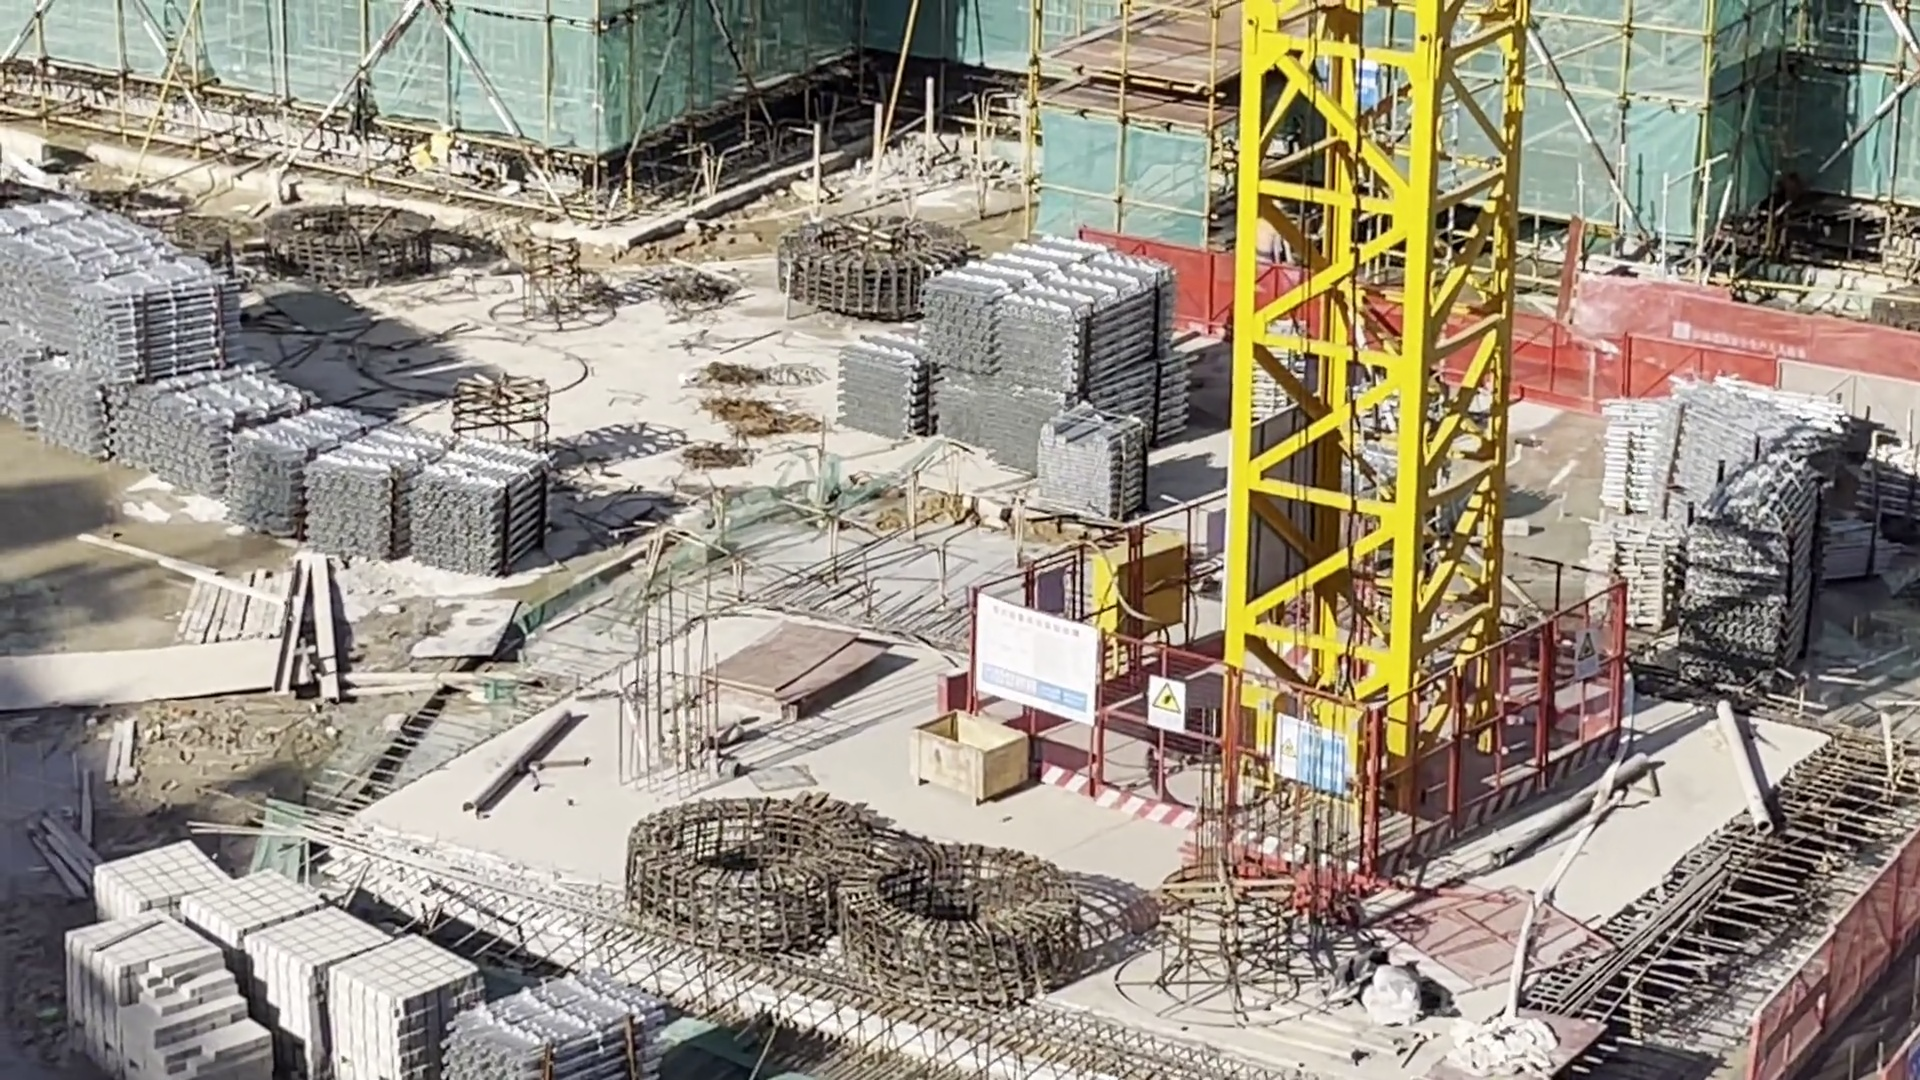board: (702, 630, 878, 716)
brick: (119, 860, 434, 1080), (69, 919, 272, 1080)
ebox: (1105, 535, 1179, 649)
fence: (1520, 280, 1920, 415), (1749, 810, 1920, 1076)
scaffold: (924, 237, 1182, 460), (1, 215, 170, 447), (1619, 384, 1832, 510), (1691, 464, 1818, 669), (444, 982, 657, 1080), (71, 262, 236, 382), (411, 440, 553, 580), (154, 376, 302, 501), (228, 410, 375, 535), (309, 425, 443, 560), (1578, 516, 1688, 629), (1039, 401, 1147, 516), (840, 319, 928, 422), (1851, 436, 1920, 520)
slogan: (1275, 723, 1348, 795), (1149, 676, 1185, 724), (1573, 633, 1597, 679)
